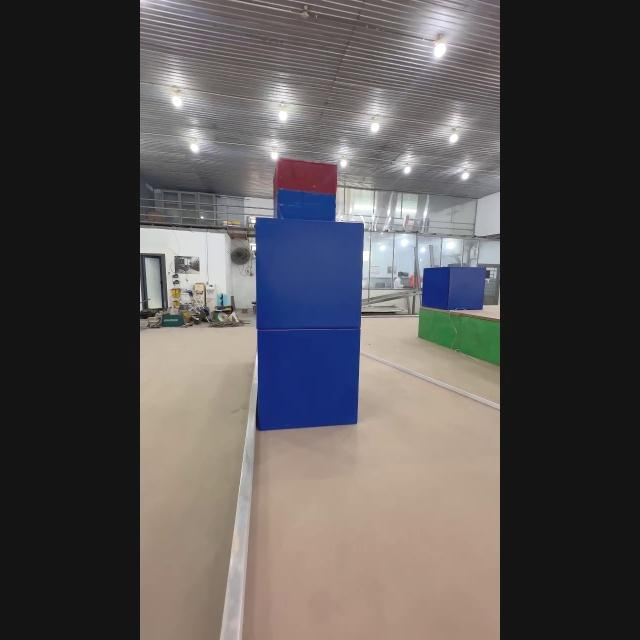earth_block: (251, 218, 369, 332), (256, 331, 358, 431)
sky_block: (266, 157, 344, 218)
